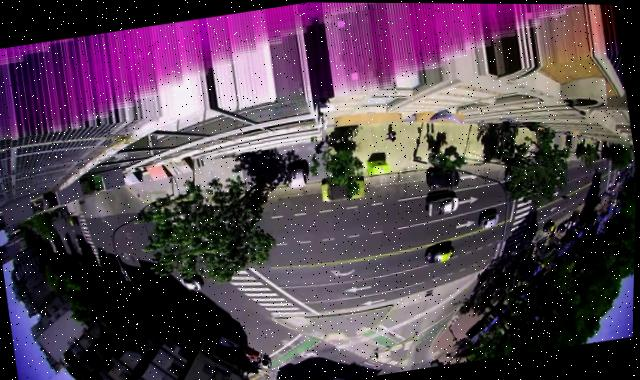car: (321, 177, 367, 203), (425, 194, 461, 217), (427, 167, 462, 190), (424, 243, 457, 263), (180, 273, 203, 292), (479, 211, 502, 228), (219, 332, 241, 349), (243, 344, 262, 359), (543, 221, 556, 232), (262, 357, 273, 369), (331, 373, 349, 380), (557, 223, 567, 232), (70, 217, 79, 226), (565, 219, 574, 228), (281, 376, 296, 380), (600, 194, 605, 199), (603, 192, 608, 197), (608, 181, 613, 186), (617, 169, 622, 174)
